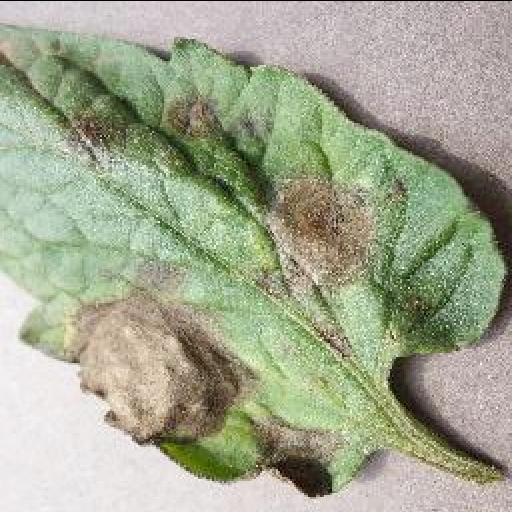disease_tomato: (0, 22, 512, 496)
